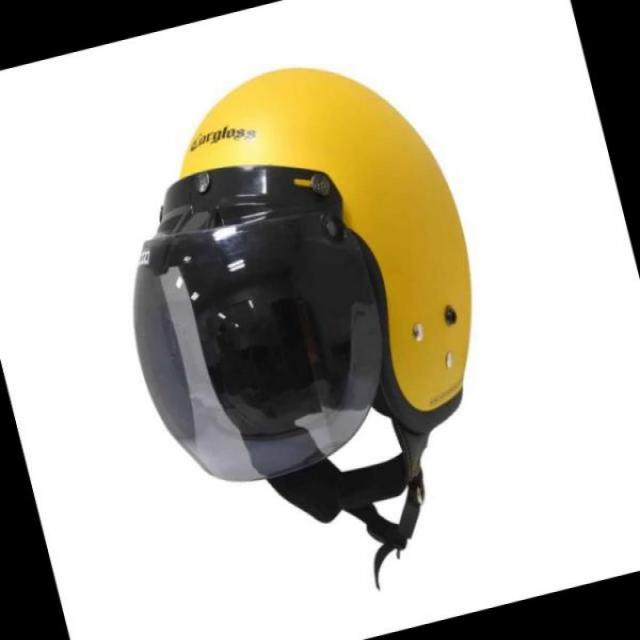Helmet: (124, 77, 541, 574)
